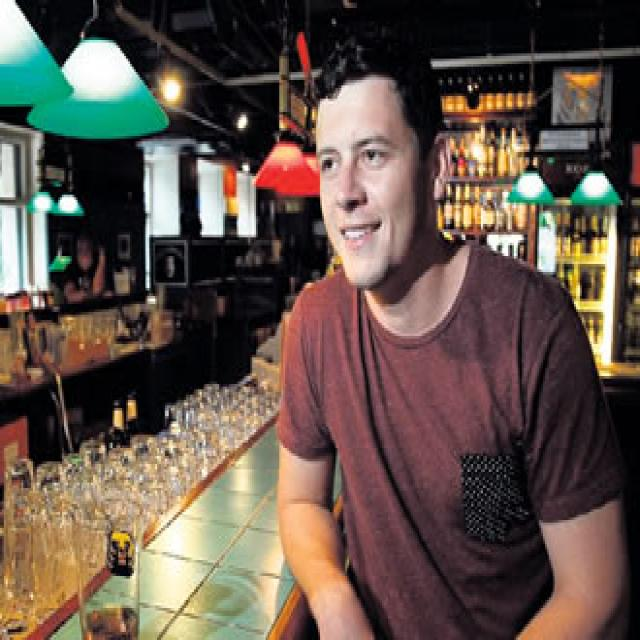human: (267, 18, 640, 640)
